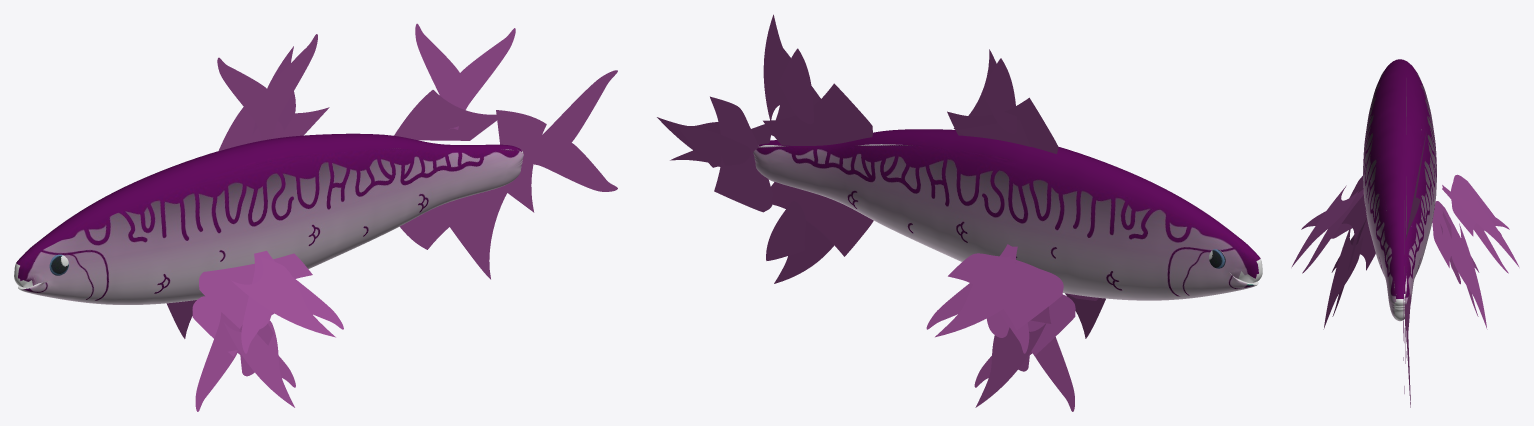
The picture shows the model from 3 angles, left to right: view 1: azimuth 30°, elevation 25°; view 2: azimuth 150°, elevation 25°; view 3: azimuth 270°, elevation 25°; orthographic projection. The views are drawn at different scales.
Parts seen in each view (by area): view 1: fish, pos-tail_fin-tail, pos-dorsal_fin-tail, pos-body_fin-tail, pos-anal_fin-dorsal, pos-body_fin-anal, pos-pectoral_fin-pectoral_right, pos-pectoral_fin-body_right, pos-tail_fin-anal, pos-pelvic_fin-tail_right, pos-pectoral_fin-tail_right, pos-pelvic_fin-pectoral_right (+5 smaller); view 2: fish, pos-body_fin-body, pos-tail_fin-body, pos-pectoral_fin-body, pos-anal_fin-body, pos-pectoral_fin-pectoral, pos-pelvic_fin-pectoral, pos-dorsal_fin-body, pos-pelvic_fin-tail, pos-body_fin-pelvic, pos-anal_fin-pelvic, pos-tail_fin-pelvic (+8 smaller); view 3: fish, pos-pelvic_fin-pectoral_right, pos-pelvic_fin-pectoral, pos-pelvic_fin-body, pos-pectoral_fin-body, pos-pectoral_fin-pectoral, pos-pectoral_fin-pectoral_right, pos-pectoral_fin-tail_right, pos-pectoral_fin-body_right, pos-pectoral_fin-tail, pos-pelvic_fin-body_right, pos-body_fin-tail (+1 smaller).
Boxes of the visible parts, box(x1,y1,x2,y2) form: fish: box(14, 133, 523, 304); pos-tail_fin-tail: box(521, 70, 617, 191); pos-dorsal_fin-tail: box(217, 34, 317, 140); pos-body_fin-tail: box(415, 23, 515, 129); pos-anal_fin-dorsal: box(436, 181, 514, 279); pos-body_fin-anal: box(394, 90, 496, 140); pos-pectoral_fin-pectoral_right: box(231, 256, 335, 337); pos-pectoral_fin-body_right: box(199, 253, 312, 328); pos-tail_fin-anal: box(496, 110, 546, 212); pos-pelvic_fin-tail_right: box(195, 312, 295, 411); pos-pectoral_fin-tail_right: box(241, 250, 343, 353); pos-pelvic_fin-pectoral_right: box(224, 320, 294, 407); fish: box(753, 129, 1262, 300); pos-body_fin-body: box(763, 83, 872, 145); pos-tail_fin-body: box(710, 96, 772, 212); pos-pectoral_fin-body: box(948, 253, 1063, 329); pos-anal_fin-body: box(769, 182, 873, 256); pos-pectoral_fin-pectoral: box(935, 256, 1038, 337); pos-pelvic_fin-pectoral: box(975, 323, 1046, 407); pos-dorsal_fin-body: box(947, 97, 1058, 153); pos-pelvic_fin-tail: box(974, 306, 1074, 411); pos-body_fin-pelvic: box(778, 48, 813, 124); pos-anal_fin-pelvic: box(766, 201, 805, 260); pos-tail_fin-pelvic: box(681, 128, 750, 167); fish: box(1363, 59, 1436, 321); pos-pelvic_fin-pectoral_right: box(1323, 229, 1363, 329); pos-pelvic_fin-pectoral: box(1447, 223, 1487, 329); pos-pelvic_fin-body: box(1432, 201, 1460, 267); pos-pectoral_fin-body: box(1451, 174, 1497, 236); pos-pectoral_fin-pectoral: box(1452, 185, 1519, 267); pos-pectoral_fin-pectoral_right: box(1291, 185, 1358, 267); pos-pectoral_fin-tail_right: box(1301, 189, 1363, 273); pos-pectoral_fin-body_right: box(1341, 176, 1366, 239); pos-pectoral_fin-tail: box(1442, 185, 1509, 273); pos-pelvic_fin-body_right: box(1358, 219, 1375, 270); pos-body_fin-tail: box(1405, 133, 1426, 240).
Bounding box in the file's own units: 1319 × 673 × 463.
3 materials, 2 textured.
